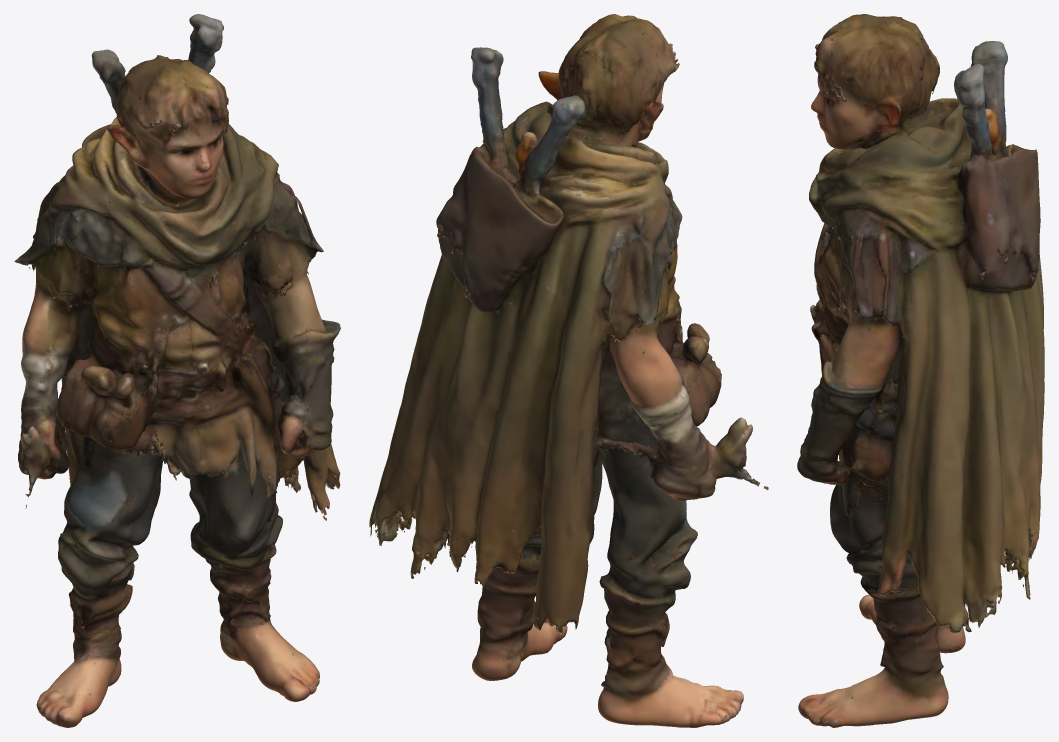
The model's file is halflingadventurer.glb.
3 views of the same model, side by side, from view 1: azimuth 30°, elevation 25°; view 2: azimuth 150°, elevation 25°; view 3: azimuth 270°, elevation 25° (orthographic). The views are drawn at different scales.
Size of the model in its own units: 1.13 by 1.99 by 0.6844.
1 material, 1 textured.
